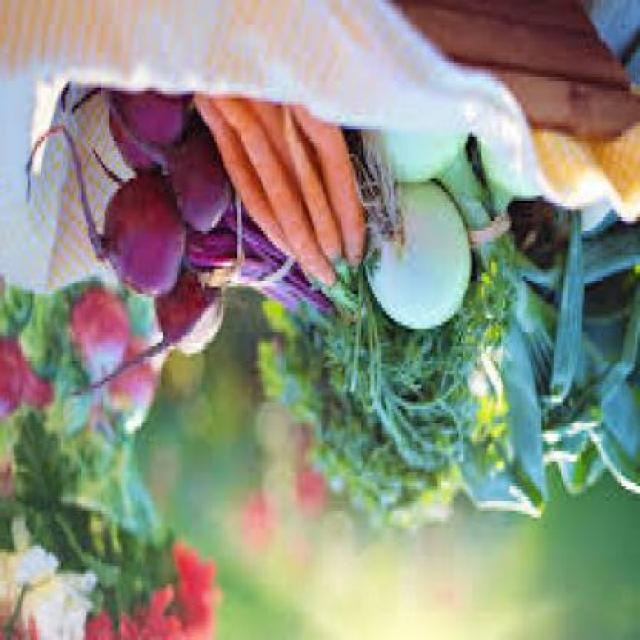BIODEGRADABLE: (294, 266, 509, 525), (460, 226, 638, 523), (2, 524, 222, 638), (215, 102, 338, 290), (195, 98, 300, 265), (368, 190, 475, 332), (284, 105, 368, 280), (79, 175, 186, 298), (286, 105, 345, 280), (170, 133, 233, 238), (109, 94, 191, 174), (363, 130, 468, 188), (2, 528, 63, 623), (18, 420, 80, 511), (158, 280, 228, 360), (75, 290, 130, 388), (108, 342, 161, 441), (20, 577, 98, 638), (172, 553, 222, 636), (247, 102, 288, 164), (128, 594, 182, 638), (23, 304, 60, 367), (58, 368, 92, 426), (2, 343, 26, 423), (22, 361, 56, 416), (81, 618, 137, 638), (9, 294, 28, 343)
